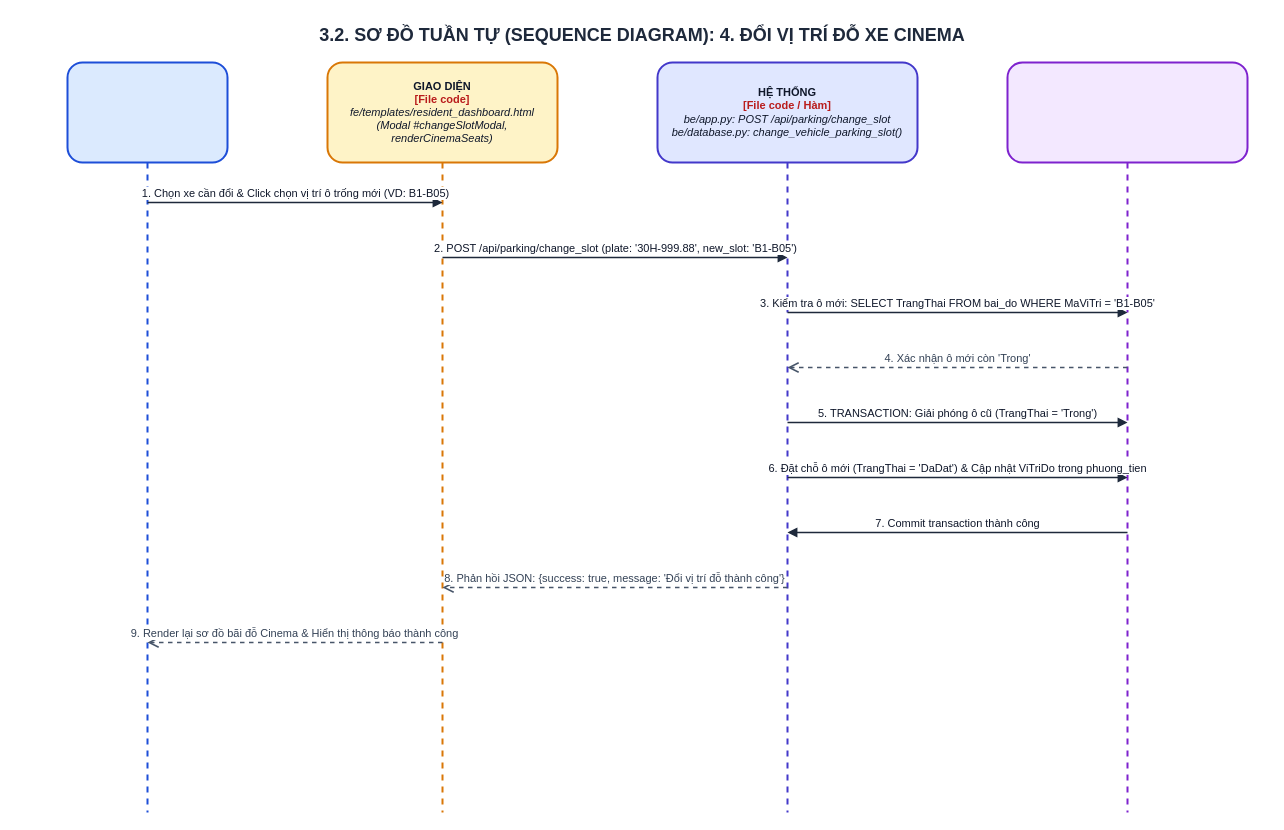
Image size: 1284x830. Some labels were removed from this diagram. Each missing label, with the box of its shape:
CƠ SỞ DỮ LIỆU [db / Bảng] HTTT_QuanLyBaiXe_AI / bai_do, vehicles, phuong_tien: (1006, 61, 1248, 813)
TÁC NHÂN Cư Dân (Resident): (66, 61, 228, 813)
